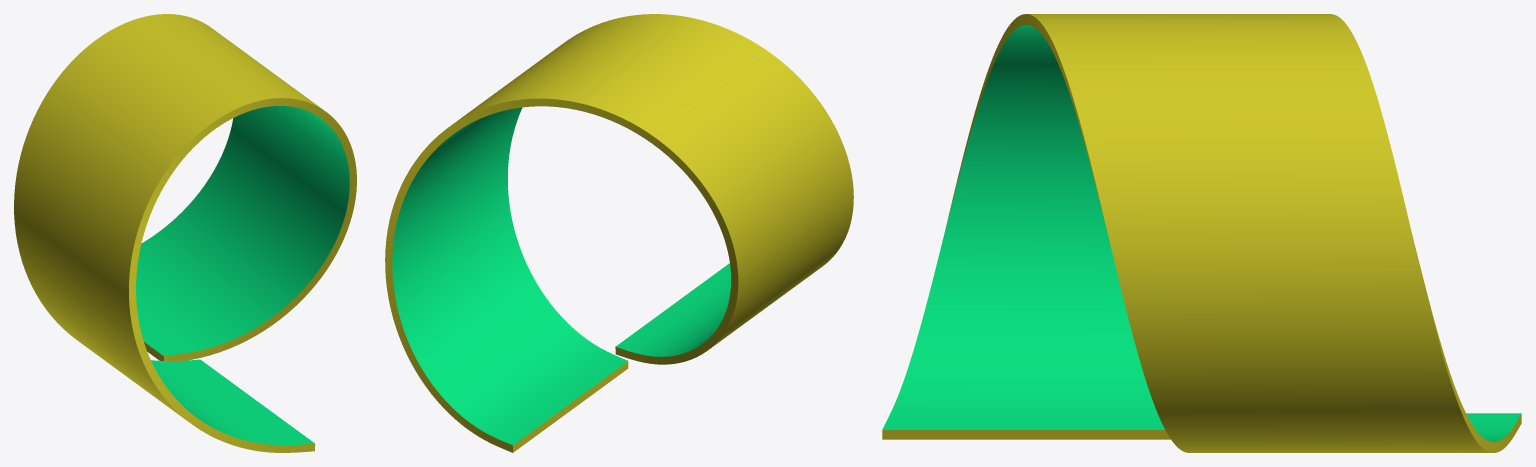
File: RibbonLoop_NoWall.fbx
3 renders of one model, left to right at view 1: azimuth 30°, elevation 25°; view 2: azimuth 150°, elevation 25°; view 3: azimuth 270°, elevation 25°, orthographic. The views are drawn at different scales.
Parts seen in each view (by area): view 1: loop:pHelix1; view 2: loop:pHelix1; view 3: loop:pHelix1.
Part boxes in pixels (x1=…): loop:pHelix1: x1=14, y1=14, x2=356, y2=452; loop:pHelix1: x1=385, y1=14, x2=853, y2=452; loop:pHelix1: x1=882, y1=14, x2=1521, y2=452.
Bounding box in the file's own units: 5.03 × 5.05 × 7.33.
